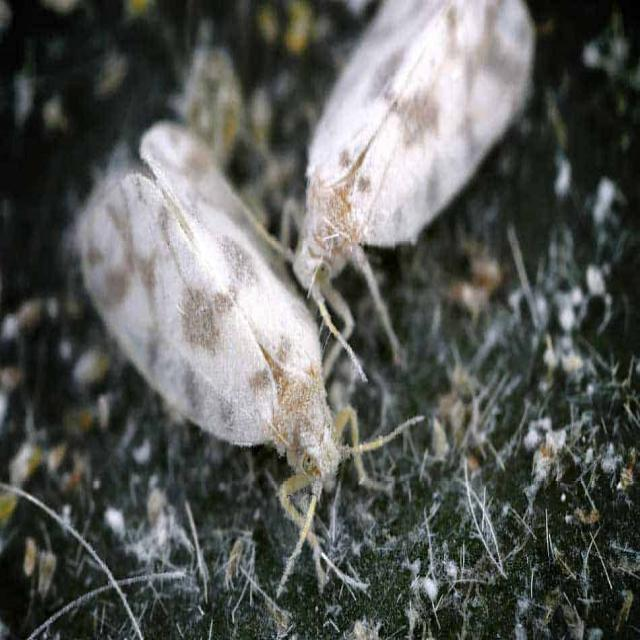whiteflies: (59, 122, 398, 573), (225, 0, 536, 367)
